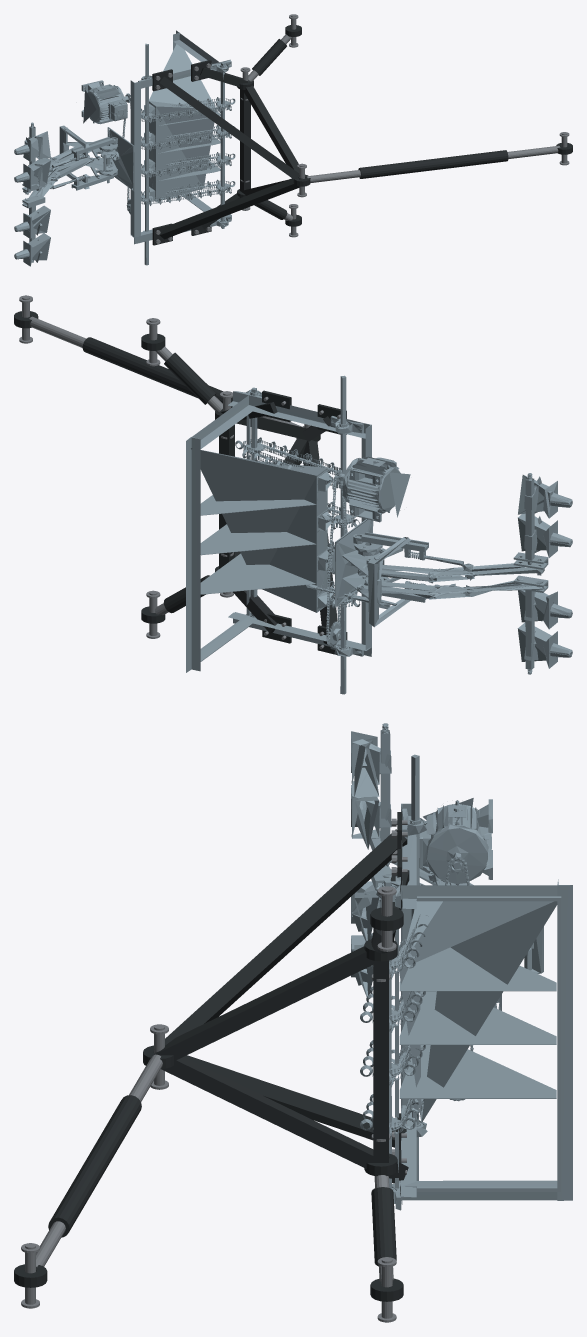
Rendered from implement_garlic_planter_visual.obj.
3 views of the same model, one above another, from view 1: azimuth 30°, elevation 25°; view 2: azimuth 150°, elevation 25°; view 3: azimuth 270°, elevation 25° (orthographic). The views are drawn at different scales.
Parts seen in each view (by area): view 1: solid_292, hitch_top_link_sleeve, hitch_receiver_member_6, solid_865, hitch_receiver_member_5, hitch_receiver_member_1, solid_98, hitch_receiver_member_0, solid_8, hitch_top_link_rod, solid_2545, hitch_lower_left_sleeve (+12 smaller); view 2: solid_292, solid_869, solid_98, solid_299, solid_848, hitch_top_link_sleeve, solid_8, solid_2545, solid_866, solid_849, solid_27, solid_864 (+17 smaller); view 3: solid_292, hitch_receiver_member_5, hitch_receiver_member_1, hitch_receiver_member_2, solid_299, solid_848, solid_849, solid_869, hitch_top_link_sleeve, hitch_receiver_member_0, solid_293, hitch_receiver_member_6 (+11 smaller).
Part boxes in pixels (x1=…): solid_292: x1=149, y1=44, x2=216, y2=201; hitch_top_link_sleeve: x1=358, y1=150, x2=508, y2=178; hitch_receiver_member_6: x1=159, y1=178, x2=299, y2=239; solid_865: x1=130, y1=80, x2=140, y2=237; hitch_receiver_member_5: x1=159, y1=76, x2=302, y2=179; hitch_receiver_member_1: x1=243, y1=80, x2=306, y2=179; solid_98: x1=81, y1=80, x2=122, y2=124; hitch_receiver_member_0: x1=240, y1=89, x2=250, y2=191; solid_8: x1=107, y1=127, x2=134, y2=191; hitch_top_link_rod: x1=306, y1=145, x2=560, y2=182; solid_2545: x1=144, y1=43, x2=148, y2=265; hitch_lower_left_sleeve: x1=252, y1=39, x2=286, y2=75; solid_292: x1=191, y1=448, x2=327, y2=612; solid_869: x1=186, y1=437, x2=200, y2=672; solid_98: x1=345, y1=456, x2=400, y2=522; solid_299: x1=200, y1=553, x2=315, y2=594; solid_848: x1=200, y1=524, x2=315, y2=555; hitch_top_link_sleeve: x1=82, y1=337, x2=232, y2=406; solid_8: x1=335, y1=519, x2=373, y2=607; solid_2545: x1=340, y1=375, x2=346, y2=694; solid_866: x1=228, y1=391, x2=365, y2=438; solid_849: x1=200, y1=495, x2=316, y2=515; solid_27: x1=368, y1=537, x2=410, y2=627; solid_864: x1=228, y1=612, x2=371, y2=656; solid_292: x1=399, y1=901, x2=557, y2=1123; hitch_receiver_member_5: x1=165, y1=829, x2=407, y2=1045; hitch_receiver_member_1: x1=155, y1=946, x2=378, y2=1060; hitch_receiver_member_2: x1=161, y1=1054, x2=383, y2=1168; solid_299: x1=399, y1=1045, x2=556, y2=1098; solid_848: x1=399, y1=991, x2=556, y2=1044; solid_849: x1=399, y1=947, x2=556, y2=991; solid_869: x1=557, y1=879, x2=572, y2=1200; hitch_top_link_sleeve: x1=48, y1=1095, x2=141, y2=1237; hitch_receiver_member_0: x1=373, y1=960, x2=388, y2=1162; solid_293: x1=417, y1=896, x2=561, y2=1191; hitch_receiver_member_6: x1=183, y1=1055, x2=406, y2=1147.
Bounding box in the file's own units: 2.69 × 1.2 × 1.41.
